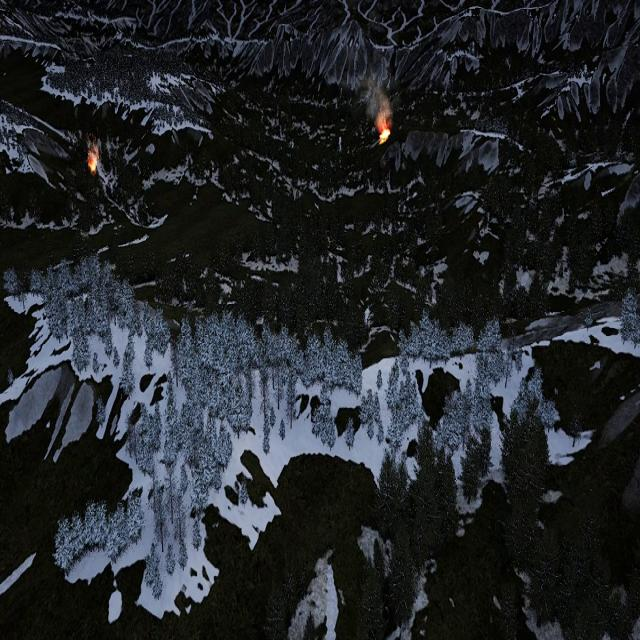fire: (89, 153, 100, 175), (380, 125, 390, 144)
smoke: (360, 76, 391, 125)
